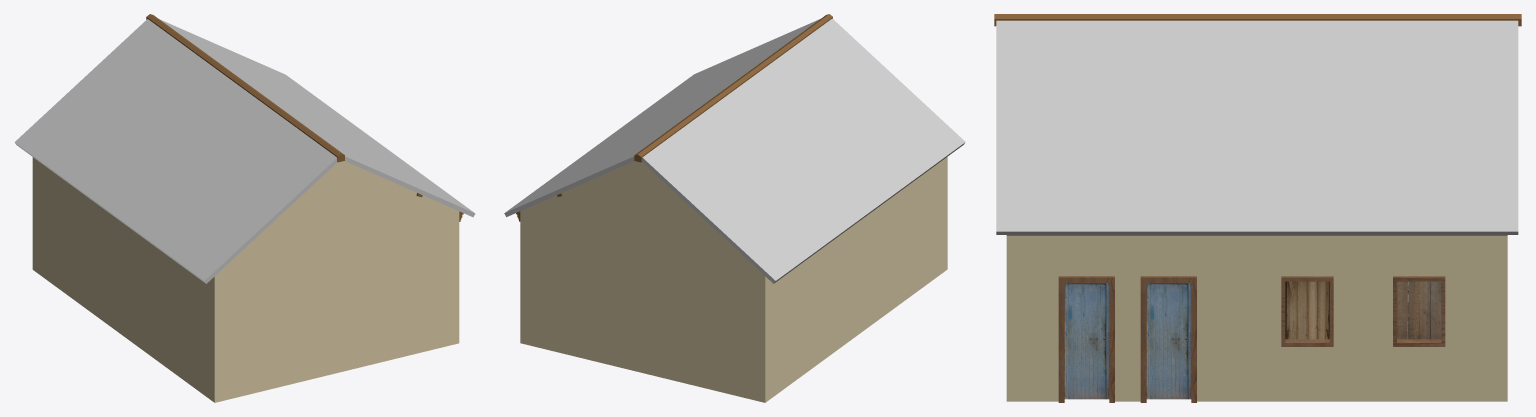
The model's file is 13_casa_nova.fbx.
The picture shows the model from 3 angles, left to right: view 1: azimuth 30°, elevation 25°; view 2: azimuth 150°, elevation 25°; view 3: azimuth 270°, elevation 25°; orthographic projection. The views are drawn at different scales.
Parts seen in each view (by area): view 1: 11_casa_LOD0, telhado; view 2: 11_casa_LOD0, telhado; view 3: telhado, 11_casa_LOD0.
Part boxes in pixels (x1,y1,x2,y2): 11_casa_LOD0: (32,14,463,402); telhado: (14,19,475,283); 11_casa_LOD0: (516,14,947,402); telhado: (504,18,965,283); telhado: (996,20,1518,234); 11_casa_LOD0: (994,14,1521,402).
Size of what is drawn, in the model's own units: 629 by 492 by 769.
